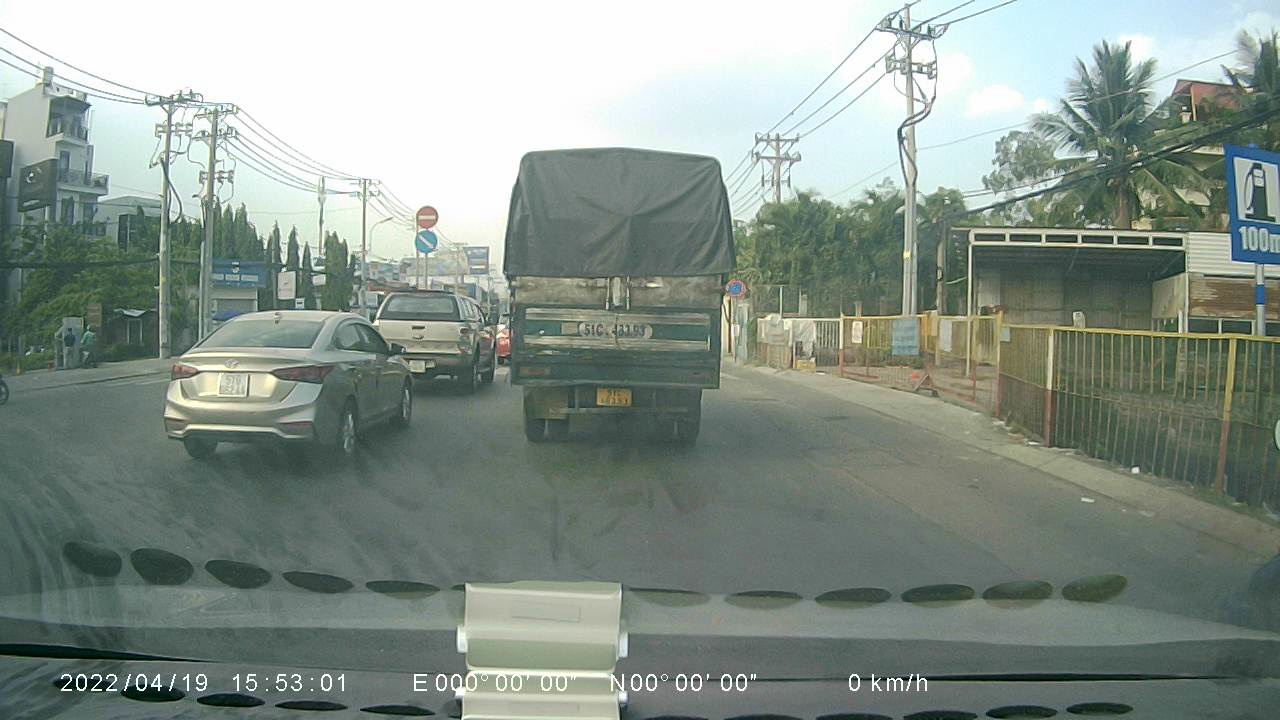Cam di nguoc chieu: (415, 202, 438, 229)
Huong di phai re phai: (414, 232, 438, 255)
